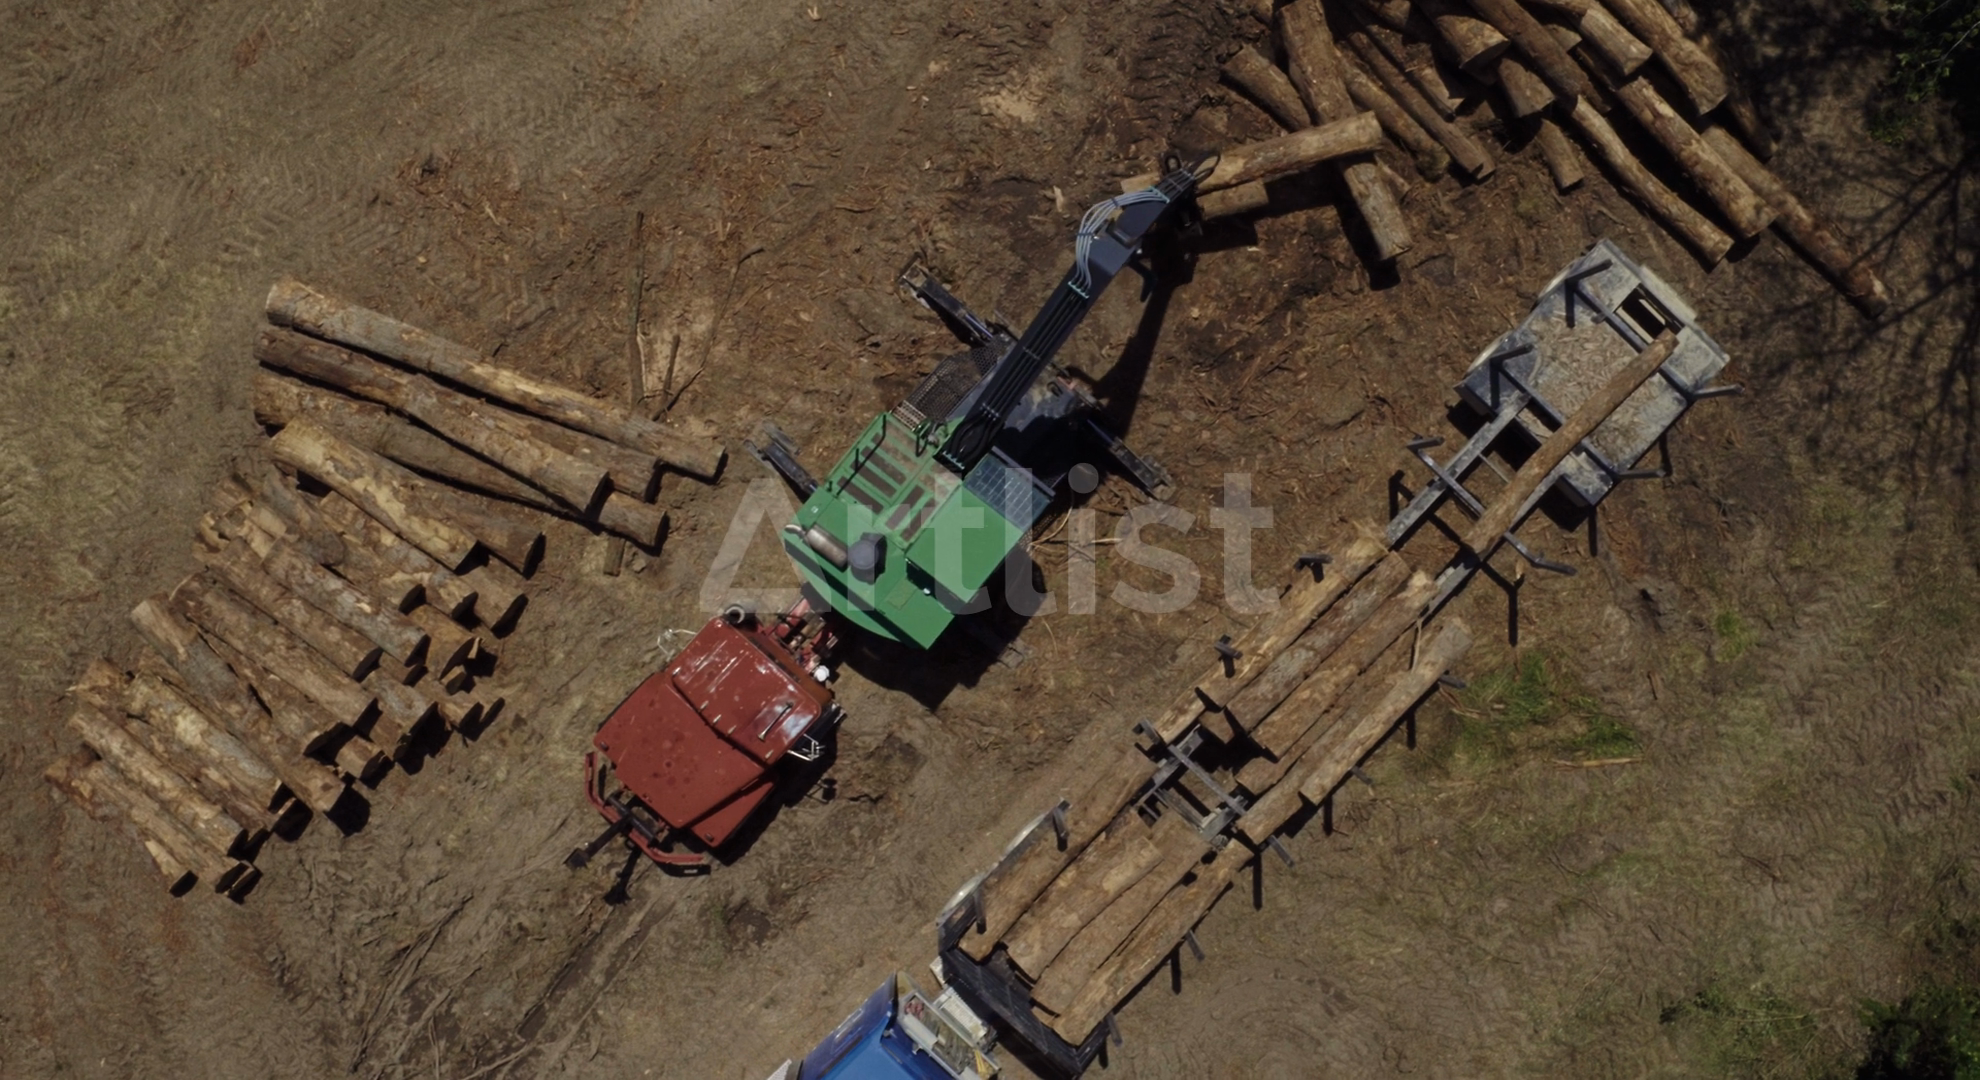logger: (124, 246, 1185, 918)
wood: (121, 229, 727, 563), (0, 462, 445, 823), (947, 509, 1496, 790), (790, 737, 1266, 991), (1072, 0, 1505, 247), (1262, 319, 1698, 561), (1422, 0, 1823, 227), (1390, 0, 1573, 105)
